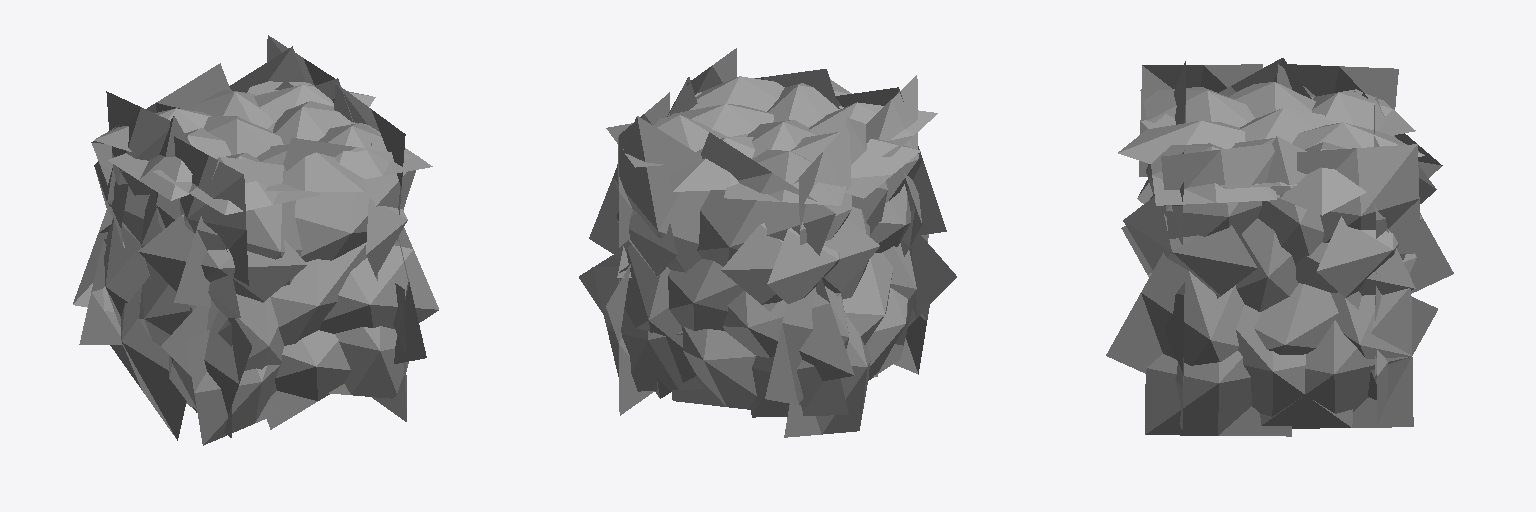
The model's file is Bush_1x1.obj.
3 views of the same model, side by side, from view 1: azimuth 30°, elevation 25°; view 2: azimuth 150°, elevation 25°; view 3: azimuth 270°, elevation 25° (orthographic).
Parts seen in each view (by area): view 1: Bush_1x1_Cube.023; view 2: Bush_1x1_Cube.023; view 3: Bush_1x1_Cube.023.
Part boxes in pixels (bbox=[...]): Bush_1x1_Cube.023: bbox=[73, 35, 438, 445]; Bush_1x1_Cube.023: bbox=[579, 48, 956, 437]; Bush_1x1_Cube.023: bbox=[1106, 58, 1453, 436].
Size of the model in its own units: 1.12 by 1.2 by 1.19.